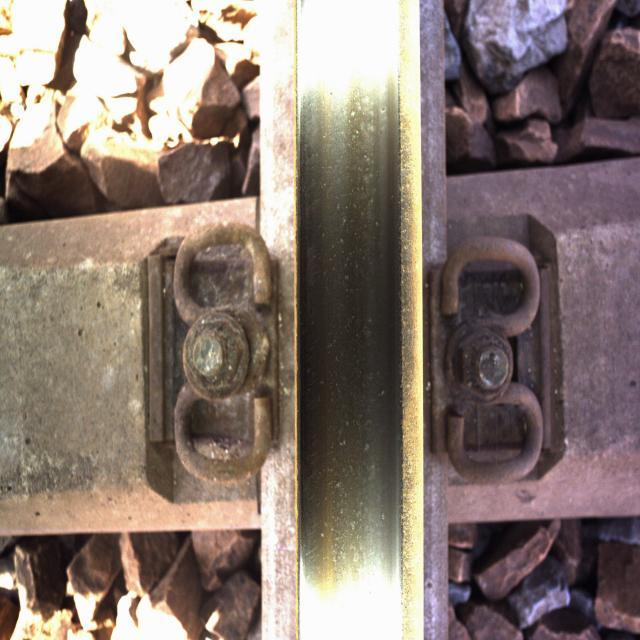break: (299, 29, 396, 611)
